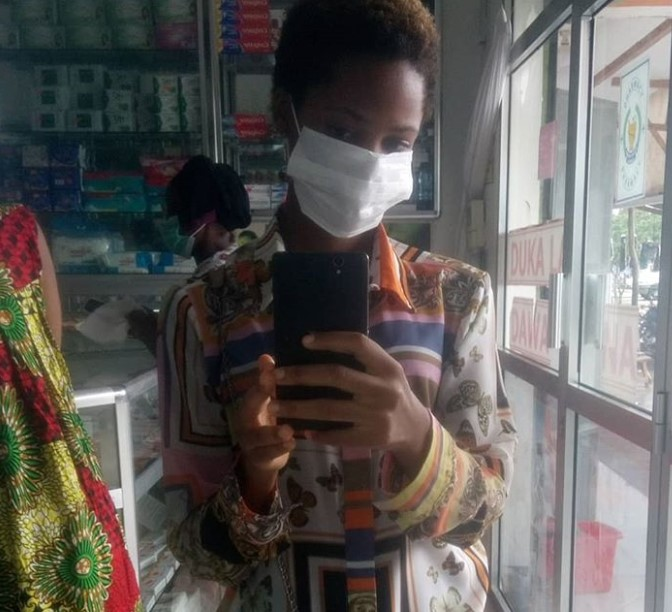face_with_mask: (276, 8, 439, 242), (152, 158, 243, 254)
